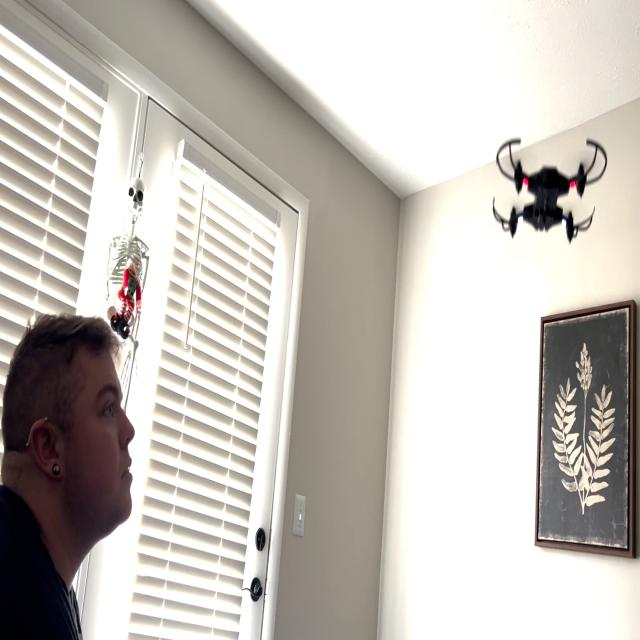drone: (487, 113, 614, 261)
